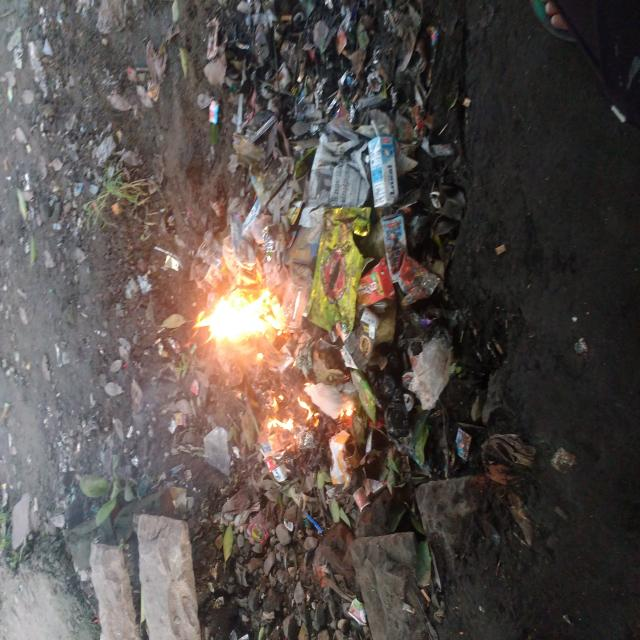Fire: (140, 239, 312, 418)
